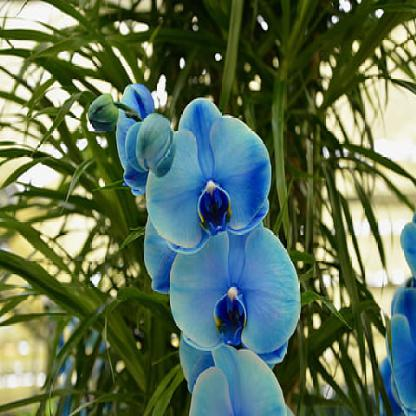ANGGREK: (90, 58, 346, 416)
